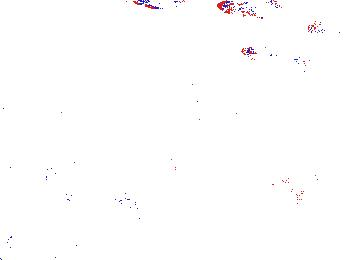X-ray fish: (34, 153, 112, 198), (157, 133, 229, 168)
red belly glassfish: (309, 23, 341, 37)
redtail glassfish: (242, 43, 313, 76), (217, 1, 282, 19), (134, 1, 183, 12)
